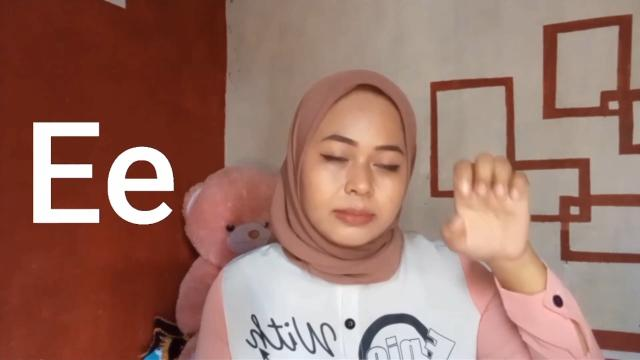E: (441, 150, 531, 264)
